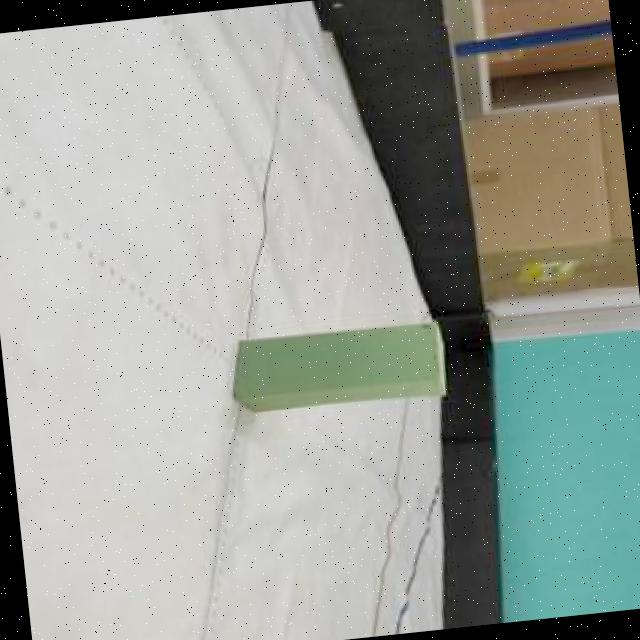greenbox: (224, 318, 451, 419)
